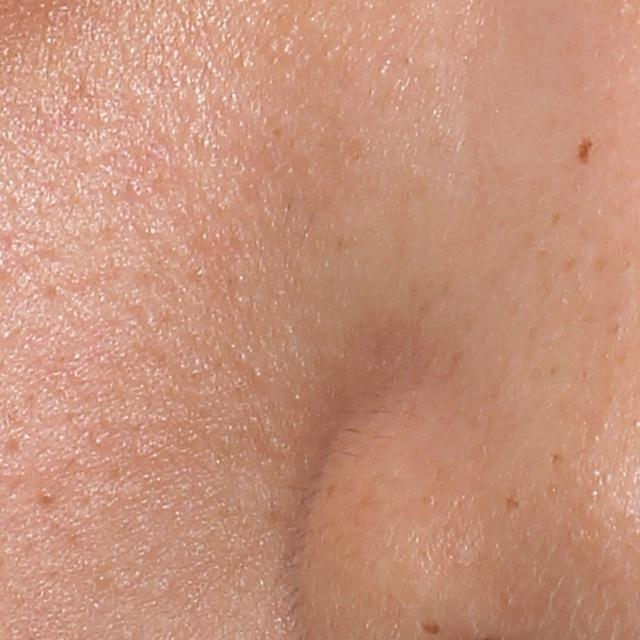nevus: (414, 613, 445, 636), (575, 138, 592, 163)
